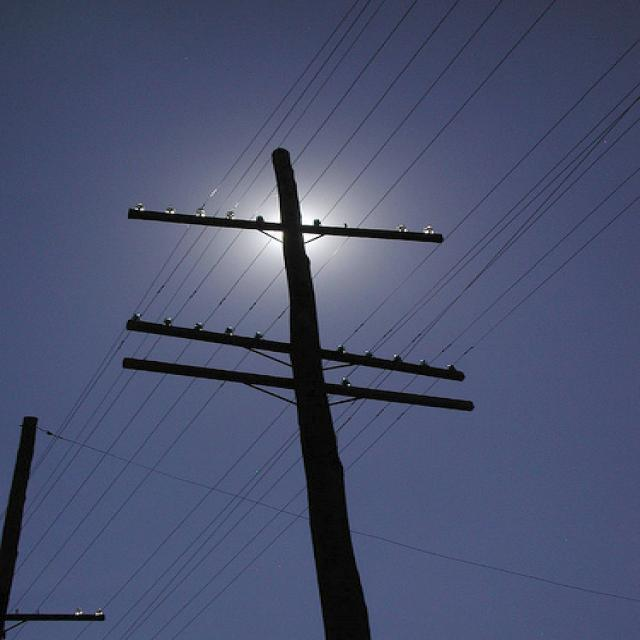crossarm: (125, 358, 474, 410), (128, 205, 445, 242), (125, 315, 309, 370), (321, 348, 466, 381)
pole: (271, 148, 372, 640)
wire: (65, 38, 639, 640), (28, 1, 554, 616), (98, 81, 640, 640), (13, 1, 505, 608), (116, 94, 639, 640), (131, 119, 640, 639), (14, 1, 458, 579), (156, 166, 640, 639), (24, 2, 421, 528), (180, 194, 640, 639), (26, 1, 389, 517), (200, 8, 353, 210), (353, 531, 625, 598), (133, 230, 183, 312)
